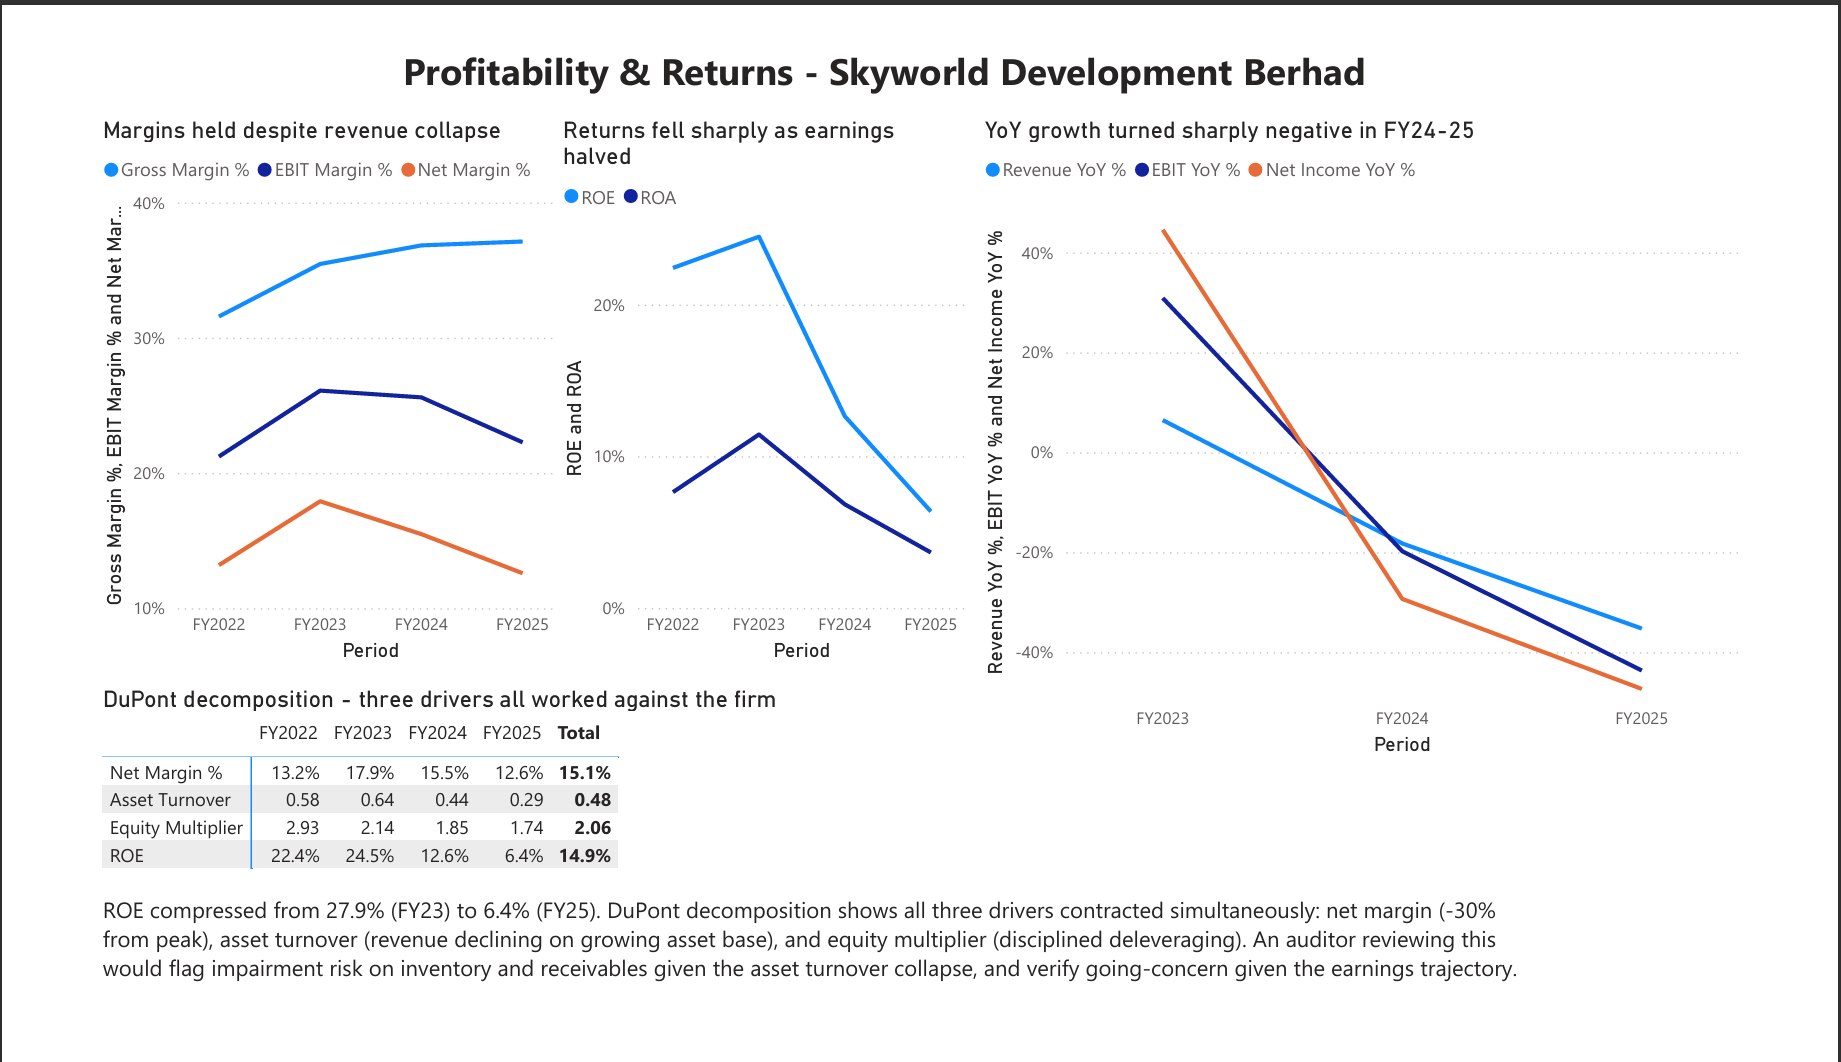

The dashboard page shown, as its layout file describes it:
{"tool":"powerbi","page":{"name":"Profitability","canvas":[1280,720],"ordinal":1},"visuals":[{"type":"textbox","box":[261,0,758,56],"z":0},{"type":"lineChart","title":"Margins held despite revenue collapse","fields":{"Category":["Period.Period"],"Y":["Raw Data.Gross Margin %","Raw Data.EBIT Margin %","Raw Data.Net Margin %"]},"box":[43.5,56.5,343.5,400],"z":1000},{"type":"lineChart","title":"Returns fell sharply as earnings halved","fields":{"Category":["Period.Period"],"Y":["Raw Data.ROE","Raw Data.ROA"]},"box":[377.4,56.5,301.6,400],"z":2000},{"type":"pivotTable","title":"DuPont decomposition - three drivers all worked against the firm","fields":{"Columns":["Period.Period"],"Values":["Raw Data.Net Margin %","Raw Data.Asset Turnover","Raw Data.Equity Multiplier","Raw Data.ROE"]},"box":[43.5,467.7,512.9,146.8],"z":3000},{"type":"lineChart","title":"YoY growth turned sharply negative in FY24-25","fields":{"Category":["Period.Period"],"Y":["Raw Data.Revenue YoY %","Raw Data.EBIT YoY %","Raw Data.Net Income YoY %"]},"box":[682.3,56.5,554.8,467.7],"z":4000},{"type":"textbox","box":[43.5,614.5,1048.4,87.1],"z":5000}]}

Visuals, with their boxes in screenshot pixels (x1, y1, x2, y2), scaled from the page's 1280x720 canvas onto the 1841x1062 screenshot:
textbox: (375,0,1466,83)
"Margins held despite revenue collapse" lineChart: (63,83,557,673)
"Returns fell sharply as earnings halved" lineChart: (543,83,977,673)
"DuPont decomposition - three drivers all worked against the firm" pivotTable: (63,690,800,906)
"YoY growth turned sharply negative in FY24-25" lineChart: (981,83,1779,773)
textbox: (63,906,1570,1035)
